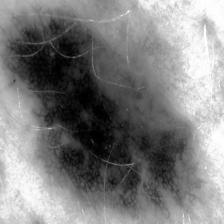Benign Marking or Mole: (6, 8, 199, 214)
